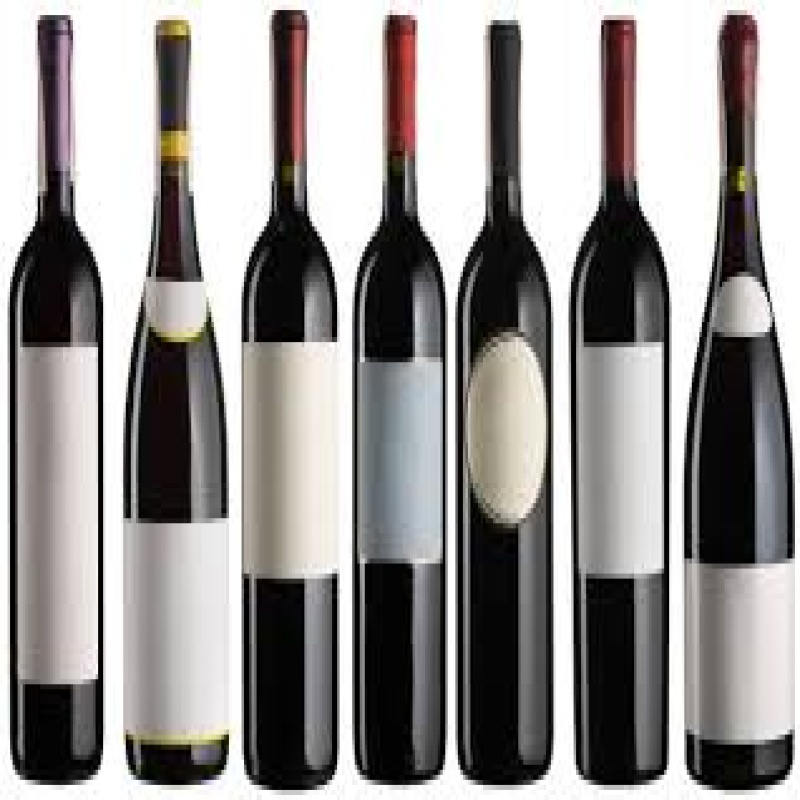wine: (682, 20, 800, 790), (236, 9, 344, 785), (127, 16, 233, 783), (572, 13, 673, 789), (458, 25, 552, 780), (355, 18, 447, 781), (14, 15, 102, 783)
